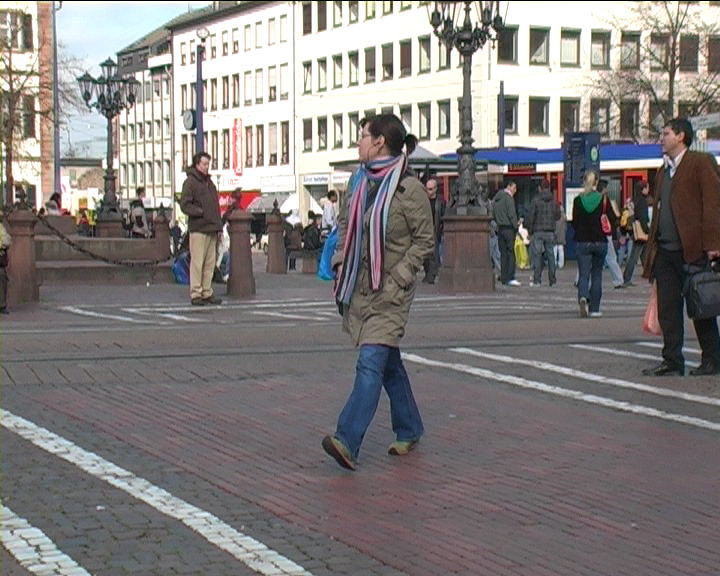deflection: (339, 114, 433, 236)
